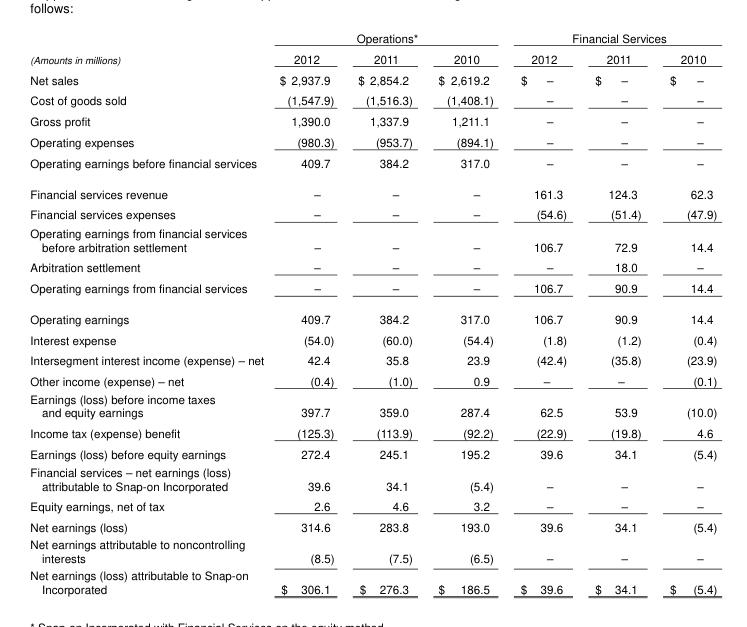table: (29, 29, 716, 596)
table column: (29, 29, 271, 596), (424, 29, 506, 596), (345, 29, 424, 596), (271, 29, 345, 596), (506, 29, 580, 596), (580, 29, 654, 596), (654, 29, 716, 596)
table column header: (29, 29, 716, 68)
table row: (29, 223, 716, 256), (29, 389, 716, 422), (29, 462, 716, 495), (29, 535, 716, 566), (29, 566, 716, 596), (29, 152, 716, 178), (29, 277, 716, 303), (29, 178, 716, 203), (29, 303, 716, 328), (29, 47, 716, 68), (29, 68, 716, 89), (29, 89, 716, 110), (29, 110, 716, 131), (29, 131, 716, 152), (29, 256, 716, 277), (29, 328, 716, 349), (29, 495, 716, 516), (29, 203, 716, 223), (29, 349, 716, 369), (29, 369, 716, 389), (29, 422, 716, 442), (29, 442, 716, 462), (29, 516, 716, 535), (29, 29, 716, 47)
table spanning cell: (29, 29, 271, 68), (271, 29, 506, 47), (506, 29, 716, 47)
